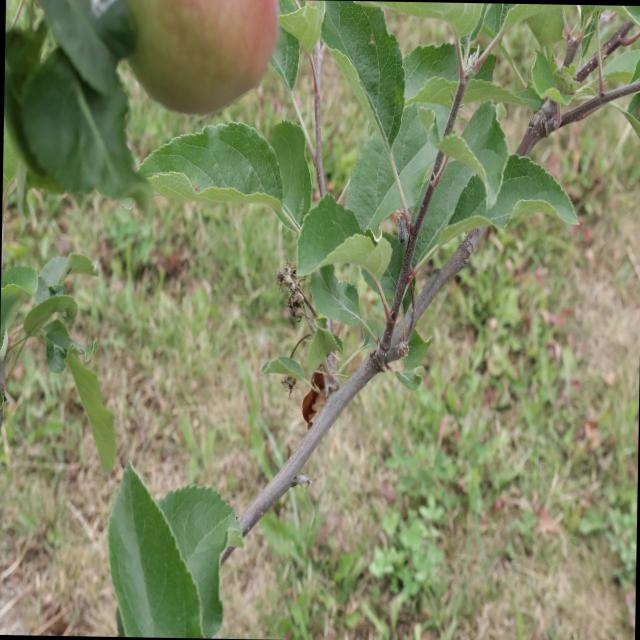-FireBlight-: (298, 369, 340, 417)
